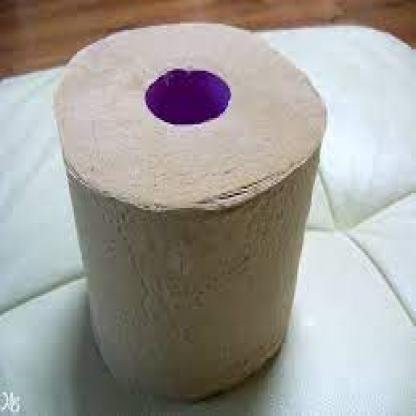tissue: (39, 11, 337, 416)
